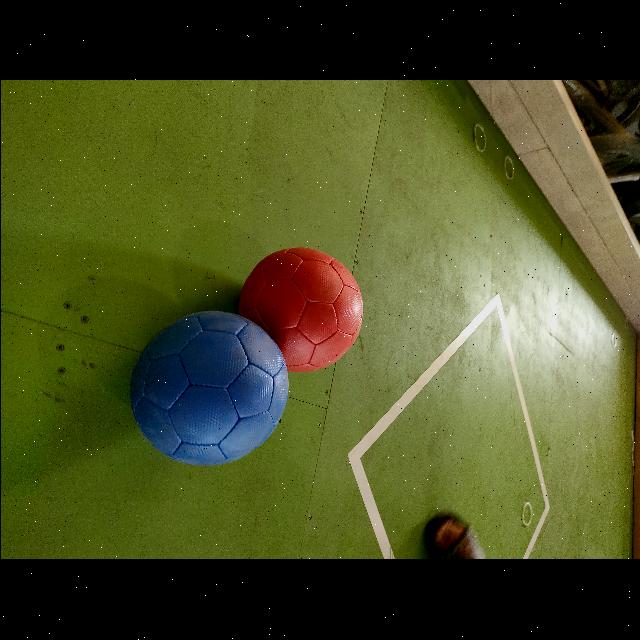B: (126, 310, 287, 467)
R: (235, 247, 361, 374)
